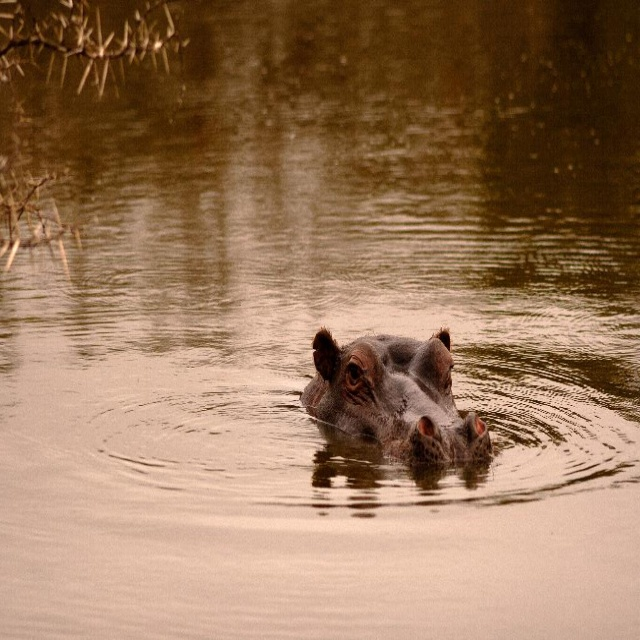Hippopotamus: (296, 332, 492, 459), (303, 333, 494, 457)
